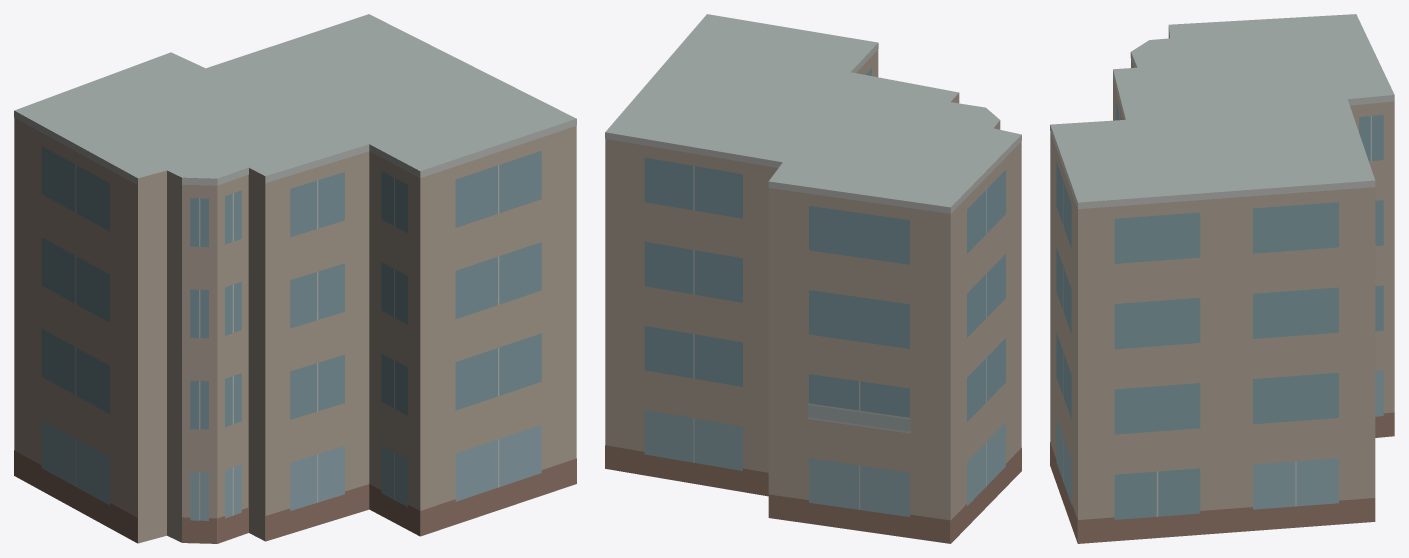
Rendered from survey-upis-32618603.glb.
3 renders of one model, left to right at view 1: azimuth 30°, elevation 25°; view 2: azimuth 150°, elevation 25°; view 3: azimuth 270°, elevation 25°, orthographic. The views are drawn at different scales.
Parts seen in each view (by area): view 1: survey-upis-32618603.tmp; view 2: survey-upis-32618603.tmp; view 3: survey-upis-32618603.tmp.
Part boxes in pixels (x1,y1,x2,y2): survey-upis-32618603.tmp: (14,14,576,543); survey-upis-32618603.tmp: (605,14,1021,543); survey-upis-32618603.tmp: (1050,14,1394,543).
Size of the model in its own units: 15.06 by 12.7 by 11.63.
